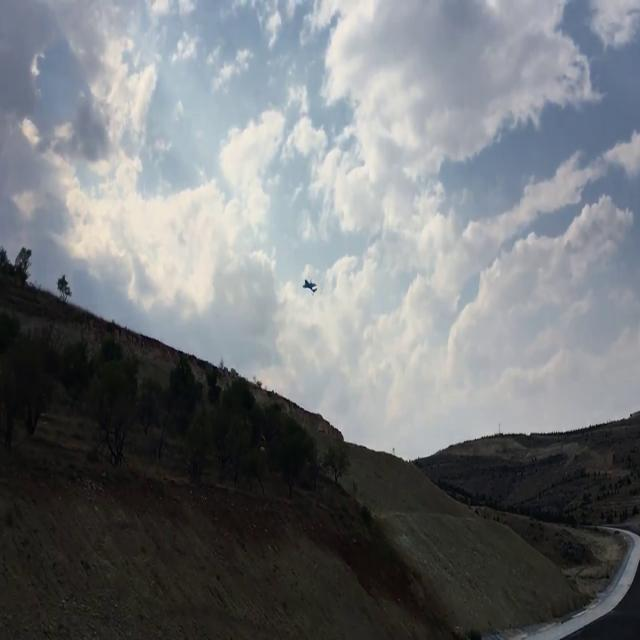iha: (299, 278, 319, 294)
